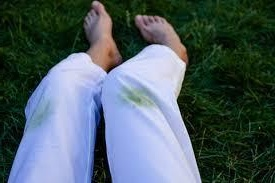earth: (124, 90, 149, 103), (33, 105, 48, 124)
